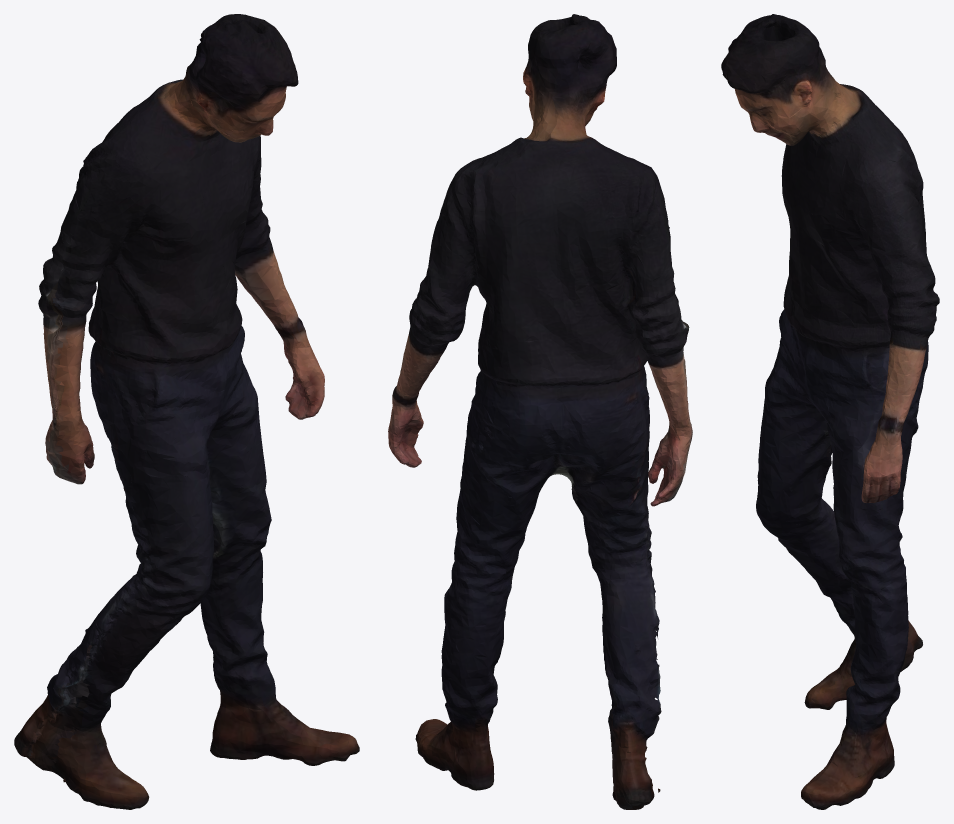
File: human_00000.obj
The picture shows the model from 3 angles, left to right: view 1: azimuth 30°, elevation 25°; view 2: azimuth 150°, elevation 25°; view 3: azimuth 270°, elevation 25°; orthographic projection. The views are drawn at different scales.
Size of the model in its own units: 699 by 1756 by 476.
1 material, 1 textured.
